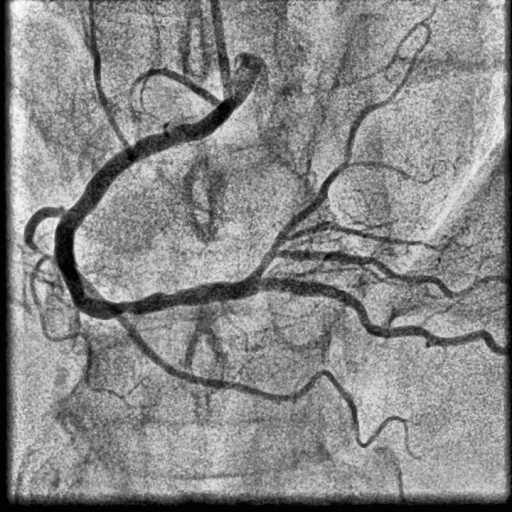pborca: (250, 51, 417, 279)
pda: (260, 277, 510, 355)
rca: (54, 100, 261, 320)
